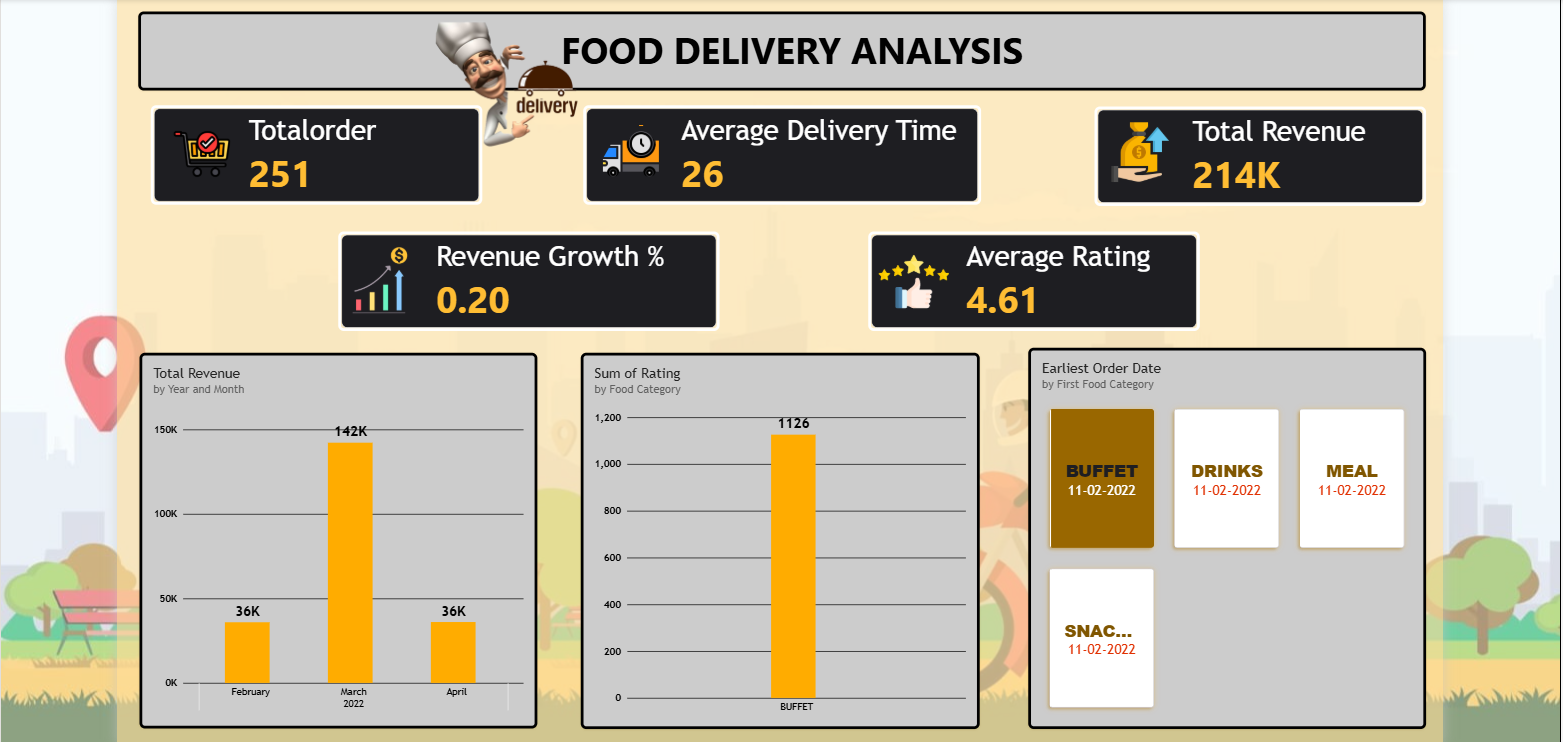

What the dashboard file says about the page in this screenshot:
{"tool":"powerbi","page":{"name":"Overview","canvas":[1920,1080],"ordinal":0},"visuals":[{"type":"cardVisual","fields":{"Data":["Delivery Table.Totalorder"]},"box":[48.9,153.8,480,144],"z":0},{"type":"cardVisual","fields":{"Data":["Delivery Table.Total Revenue"]},"box":[1415.2,155.6,480,144],"z":1000},{"type":"cardVisual","fields":{"Data":["Delivery Table.Average Rating"]},"box":[1088,336,480,144],"z":2000},{"type":"textbox","box":[30.8,18.1,1864,114],"z":3000},{"type":"clusteredColumnChart","fields":{"Category":["Order Table.Order Date.Variation.Date Hierarchy.Year","Order Table.Order Date.Variation.Date Hierarchy.Month"],"Y":["Delivery Table.Total Revenue"]},"box":[32,512,576,544],"z":4000},{"type":"clusteredColumnChart","fields":{"Category":["Order Table.Food Category"],"Y":["Sum(Delivery Table.Rating)"]},"box":[671.4,512.1,577.3,544.7],"z":5000},{"type":"advancedSlicerVisual","fields":{"Label":["Min(Order Table.Order Date)"],"Values":["Order Table.Food Category"]},"box":[1320,504,576,552],"z":6000},{"type":"cardVisual","fields":{"Data":["Delivery Table.Average Delivery Time"]},"box":[675,153.8,576,144],"z":7000},{"type":"cardVisual","fields":{"Data":["Calendar.Revenue Growth %"]},"box":[320,336,552,144],"z":8000},{"type":"image","box":[289.5,18.1,569.2,200.2],"z":9000},{"type":"image","box":[48.9,177.3,148.4,101.3],"z":10000},{"type":"image","box":[689.5,171.9,108.6,95.9],"z":11000},{"type":"image","box":[1415.2,171.9,128.5,106.8],"z":12000},{"type":"image","box":[320.3,354.7,121.2,105],"z":13000},{"type":"image","box":[1087.6,358.3,132.1,101.3],"z":14000}]}

Visuals, with their boxes in screenshot pixels (x1, y1, x2, y2):
cardVisual - Delivery Table.Totalorder: [x1=136, y1=100, x2=473, y2=201]
cardVisual - Delivery Table.Total Revenue: [x1=1094, y1=101, x2=1431, y2=202]
cardVisual - Delivery Table.Average Rating: [x1=865, y1=227, x2=1201, y2=328]
textbox: [x1=123, y1=5, x2=1431, y2=85]
clusteredColumnChart - Order Table.Order Date.Variation.Date Hierarchy.Year x Order Table.Order Date.Variation.Date Hierarchy.Month: [x1=124, y1=351, x2=528, y2=732]
clusteredColumnChart - Order Table.Food Category x Sum(Delivery Table.Rating): [x1=573, y1=351, x2=977, y2=733]
advancedSlicerVisual - Min(Order Table.Order Date) x Order Table.Food Category: [x1=1027, y1=345, x2=1431, y2=732]
cardVisual - Delivery Table.Average Delivery Time: [x1=575, y1=100, x2=979, y2=201]
cardVisual - Calendar.Revenue Growth %: [x1=326, y1=227, x2=713, y2=328]
image: [x1=305, y1=5, x2=704, y2=145]
image: [x1=136, y1=116, x2=240, y2=187]
image: [x1=585, y1=112, x2=661, y2=180]
image: [x1=1094, y1=112, x2=1184, y2=187]
image: [x1=326, y1=241, x2=411, y2=314]
image: [x1=864, y1=243, x2=957, y2=314]
